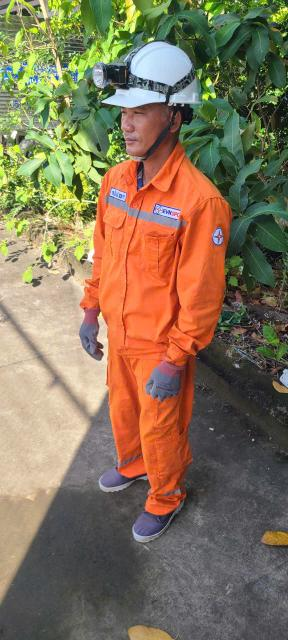gloves: (62, 305, 118, 362), (141, 349, 193, 406)
helmet: (99, 24, 222, 106)
shoes: (110, 483, 205, 542), (85, 444, 148, 490)
